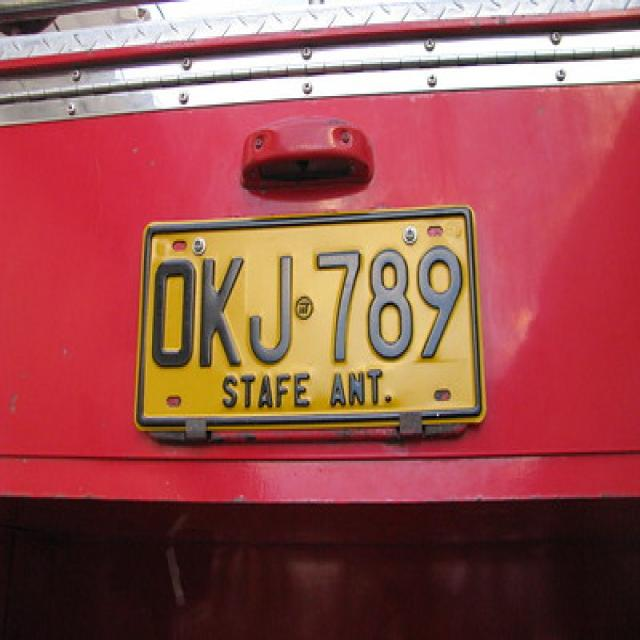placa_carro: (134, 195, 485, 428)
